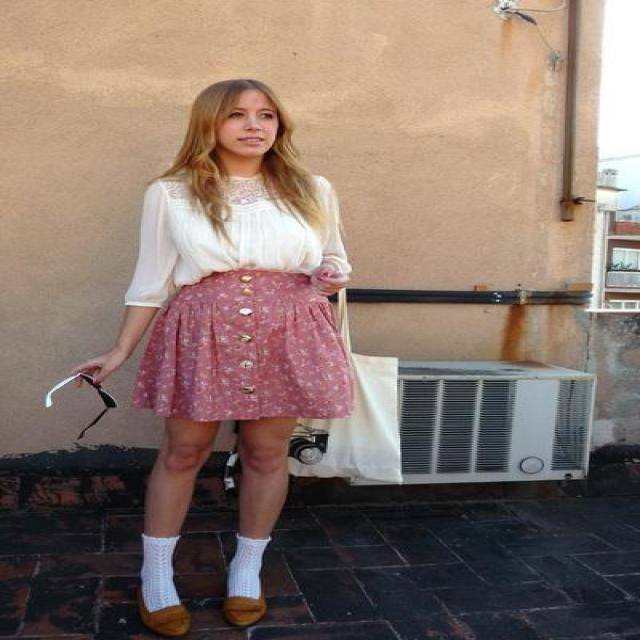shirt: (125, 175, 349, 306)
shoe: (142, 593, 264, 635)
skirt: (138, 269, 363, 420)
